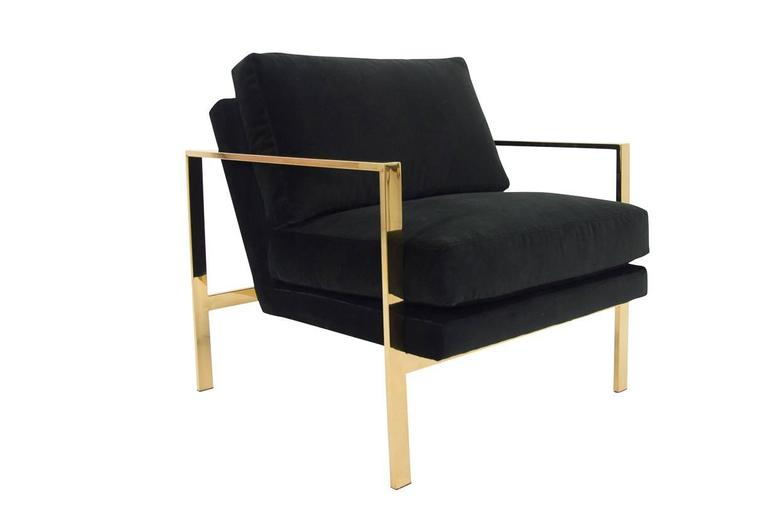chairs: (178, 50, 656, 493)
